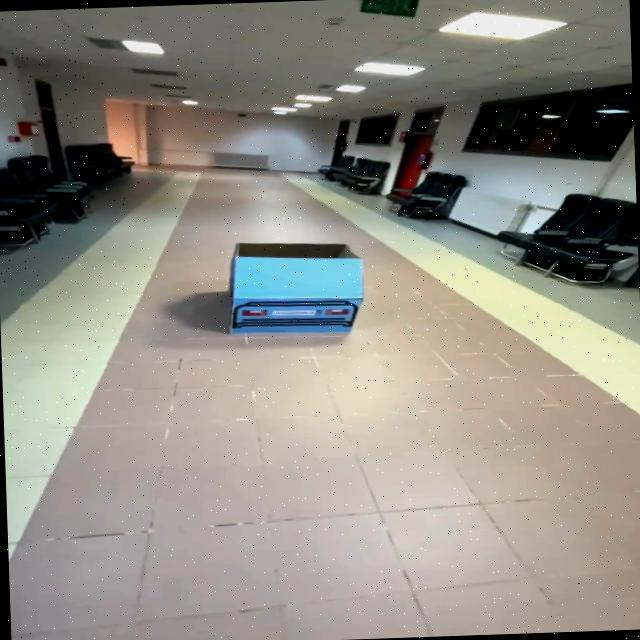blue_car: (182, 228, 400, 356)
